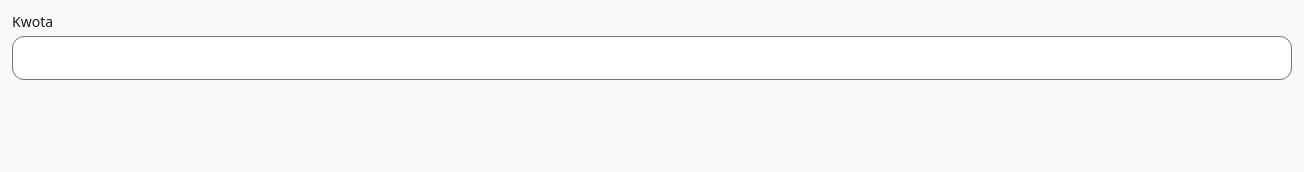
MoneyInput › odrzuca litery
The width and height of the screenshot is (1304, 172).
Type "12abc3" into the field labelled "Kwota" at [652, 58], box [12,36,1292,80]
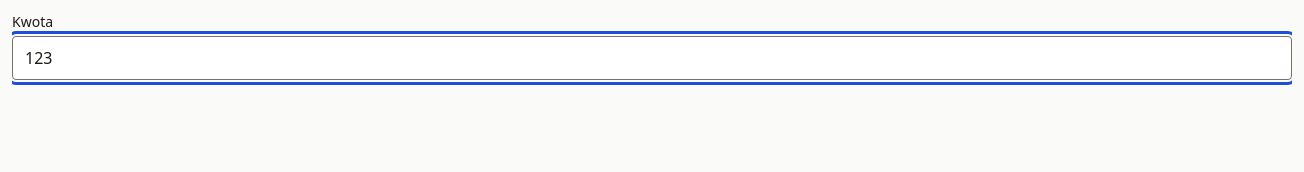
Expected: the field labelled "Kwota" holds "123", [12,36,1292,80]
